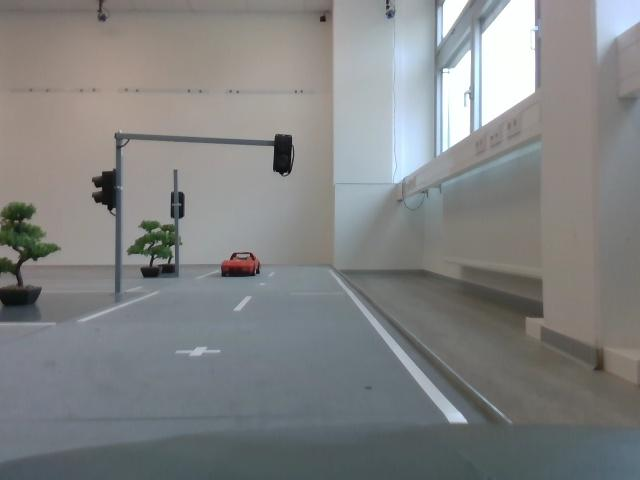car: (219, 250, 262, 277)
potted plant: (1, 195, 53, 313), (133, 218, 170, 283), (158, 221, 184, 277)
traffic light: (86, 163, 124, 215), (274, 130, 297, 178), (170, 192, 188, 220)
